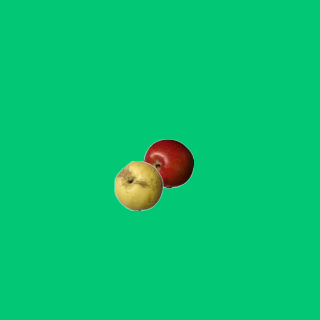Apple Braeburn: (143, 138, 193, 188)
Apple Golden 1: (113, 160, 163, 210)
